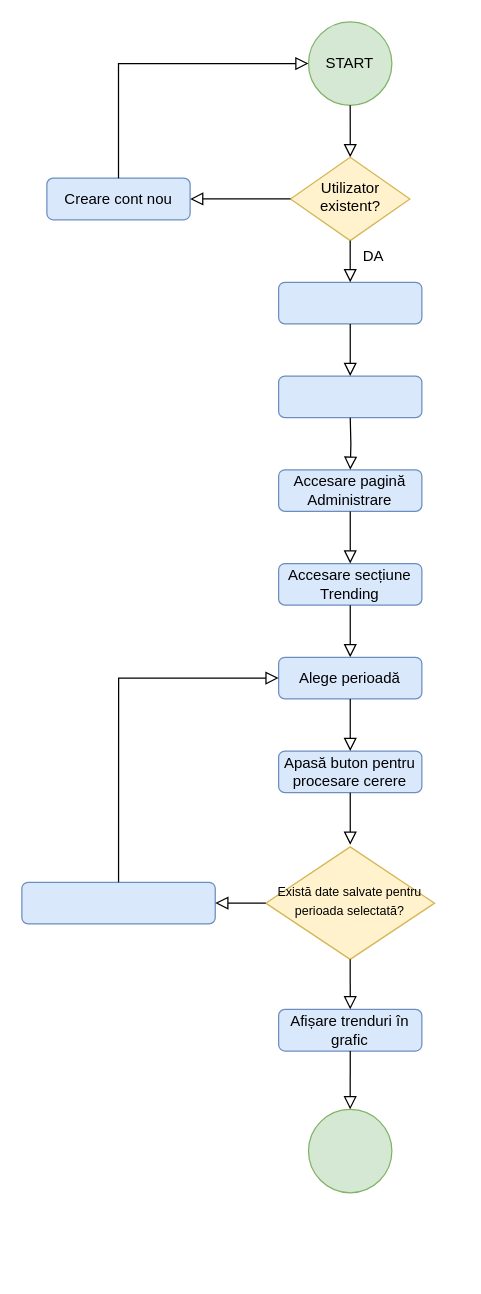
Image size: 481x1294. Some labels were removed from this diagram. The centre of each missing label's shape, as x and y in pixels:
Afișare pagină Dashboard: [349,396]
Login: [349,302]
Notificare că nu există date pentru perioada selectată: [118,902]
STOP: [349,1150]
